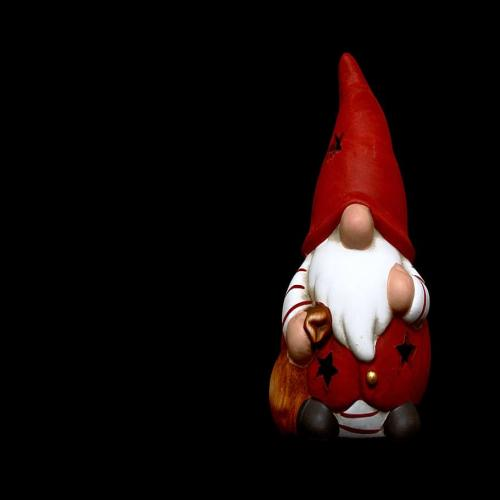Santa: (269, 54, 432, 441)
